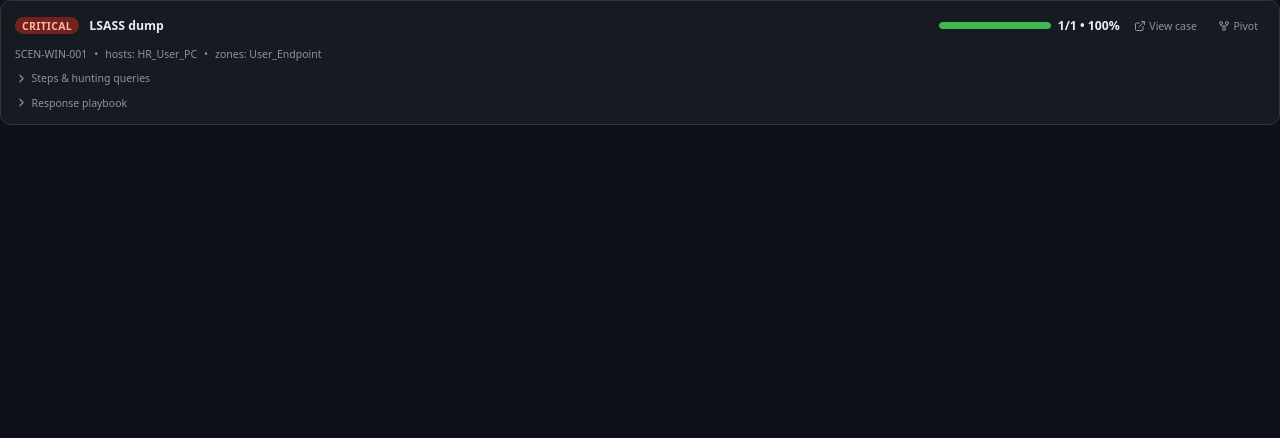
Scenario: DetectionCard playbook › lazily fetches + renders the playbook panel when opened (opt-in via showPlaybook)
Step 1. Click the button "Response playbook" → (71, 102), box [15,96,127,110]
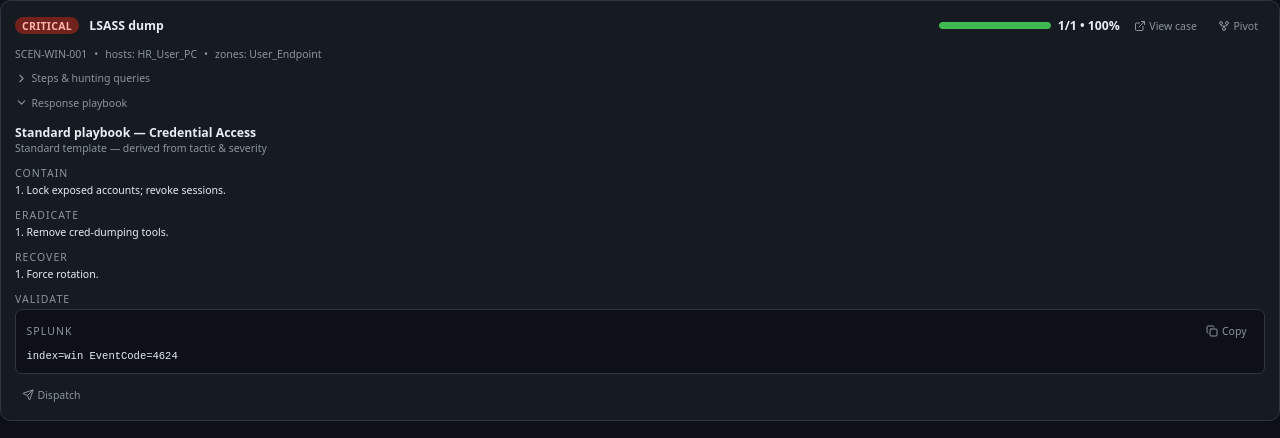
Expected: the list item "Lock exposed accounts; revoke sessions." is shown, [27,183,226,197]
Expected: the list item "Remove cred-dumping tools." is shown, [27,225,169,239]
Expected: the list item "Force rotation." is shown, [27,267,98,281]
